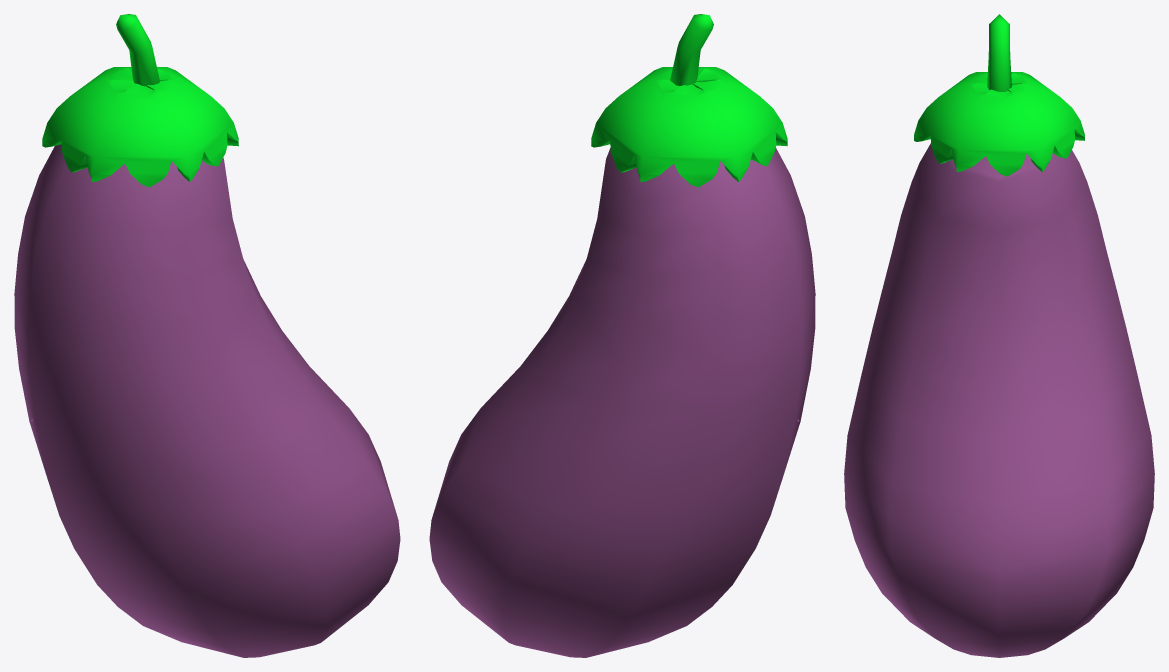
The model's file is eggplant.glb.
The picture shows the model from 3 angles, left to right: view 1: azimuth 30°, elevation 25°; view 2: azimuth 150°, elevation 25°; view 3: azimuth 270°, elevation 25°; orthographic projection. The views are drawn at different scales.
Size of the model in its own units: 0.5429 by 0.955 by 0.4696.
